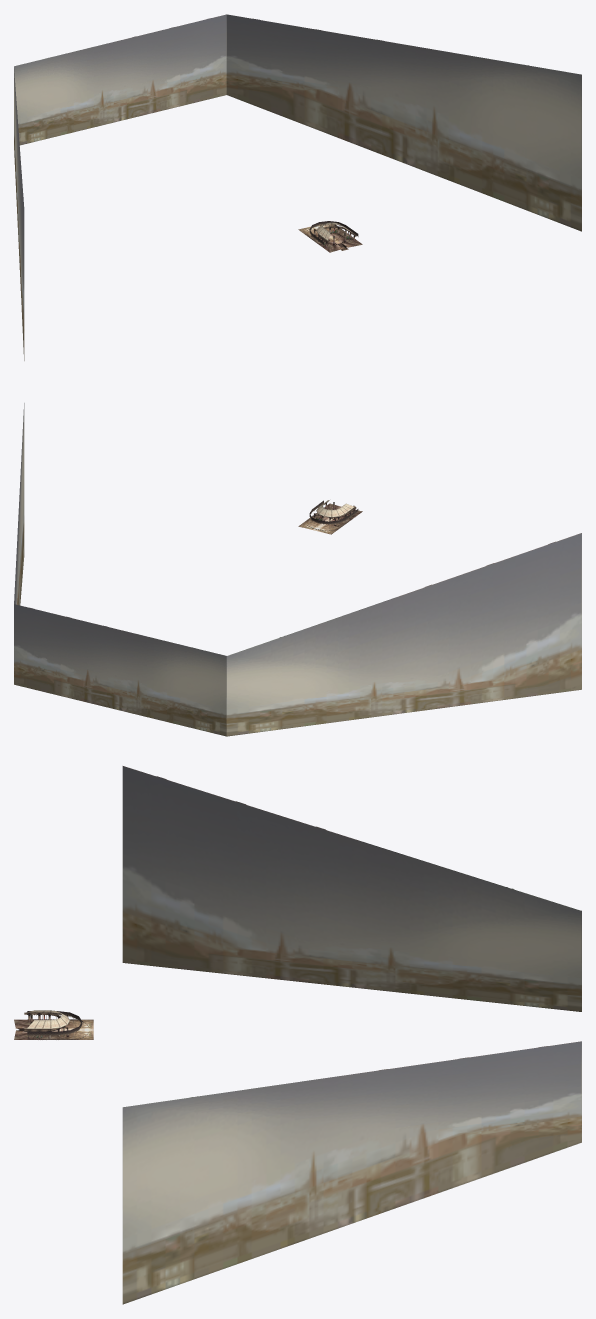
Rendered from stageProb.fbx.
The picture shows the model from 3 angles, top to bottom: view 1: azimuth 30°, elevation 25°; view 2: azimuth 150°, elevation 25°; view 3: azimuth 270°, elevation 25°; orthographic projection. The views are drawn at different scales.
Visible parts, largest first — view 1: Guild_Lobby01_a_01_far, Guild_Lobby01_d_01_rep, Guild_Lobby01_d_01; view 2: Guild_Lobby01_a_01_far, Guild_Lobby01_d_01_rep, Guild_Lobby01_d_01; view 3: Guild_Lobby01_a_01_far, Guild_Lobby01_d_01_rep, Guild_Lobby01_d_01.
Part boxes in pixels (bbox=[...]): Guild_Lobby01_a_01_far: bbox=[14, 14, 581, 360]; Guild_Lobby01_d_01_rep: bbox=[298, 224, 362, 252]; Guild_Lobby01_d_01: bbox=[314, 222, 356, 247]; Guild_Lobby01_a_01_far: bbox=[14, 403, 581, 736]; Guild_Lobby01_d_01_rep: bbox=[298, 503, 362, 534]; Guild_Lobby01_d_01: bbox=[314, 500, 356, 525]; Guild_Lobby01_a_01_far: bbox=[122, 766, 581, 1304]; Guild_Lobby01_d_01_rep: bbox=[14, 1019, 93, 1039]; Guild_Lobby01_d_01: bbox=[17, 1010, 70, 1038].
Bounding box in the file's own units: 436 × 117 × 306.
4 materials, 4 textured.
